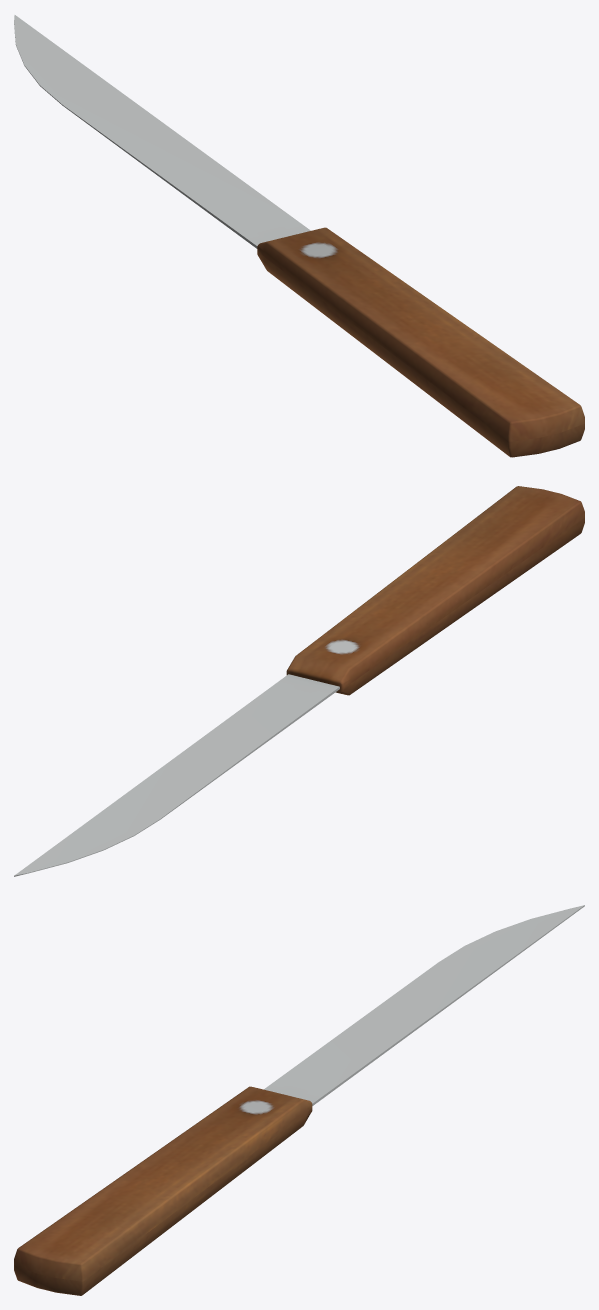
File: GardenTableWear01_19.FBX
The picture shows the model from 3 angles, top to bottom: view 1: azimuth 30°, elevation 25°; view 2: azimuth 150°, elevation 25°; view 3: azimuth 330°, elevation 25°; orthographic projection. The views are drawn at different scales.
Parts seen in each view (by area): view 1: GardenTableWear01_19; view 2: GardenTableWear01_19; view 3: GardenTableWear01_19.
Boxes of the visible parts, x1,y1,x2,y2 form: GardenTableWear01_19: (14, 15, 584, 457); GardenTableWear01_19: (14, 486, 584, 876); GardenTableWear01_19: (14, 905, 584, 1295).
Size of what is drawn, in the model's own units: 0.0237 by 0.0106 by 0.3021.
